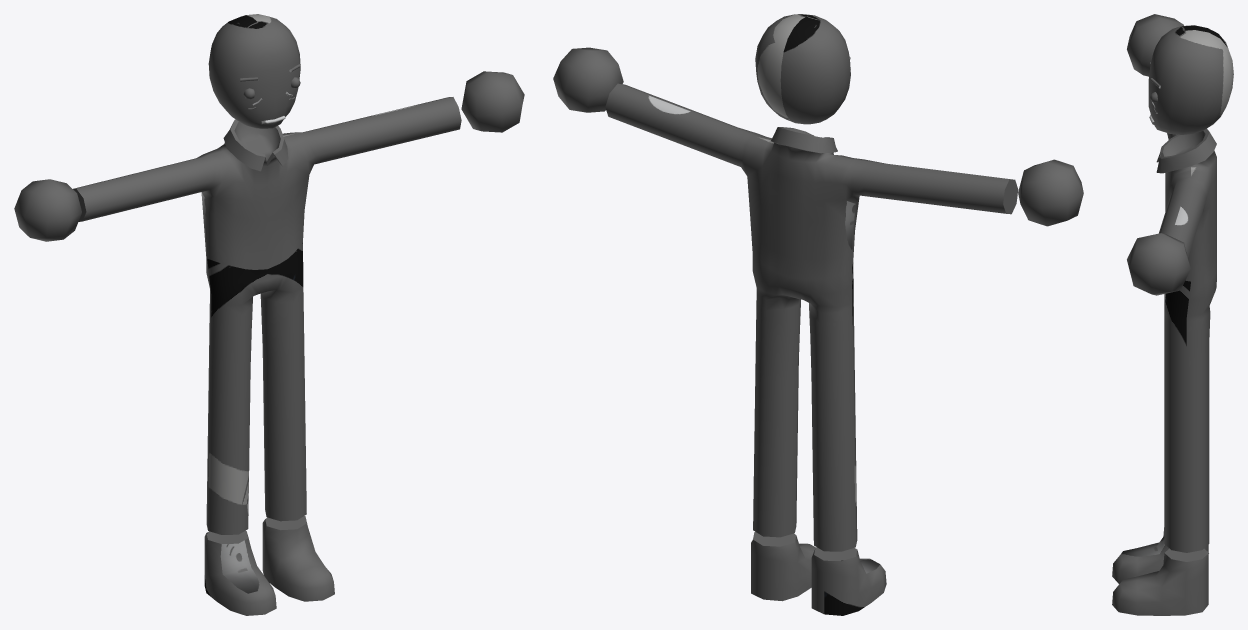
File: player.fbx
The picture shows the model from 3 angles, left to right: view 1: azimuth 30°, elevation 25°; view 2: azimuth 150°, elevation 25°; view 3: azimuth 270°, elevation 25°; orthographic projection. The views are drawn at different scales.
Visible parts, largest first — view 1: body, head, hand_R, hand_L; view 2: body, head, hand_R, hand_L; view 3: body, head, hand_L, hand_R.
Boxes of the visible parts, bbox=[...] form: body: bbox=[73, 97, 461, 615]; head: bbox=[208, 14, 300, 128]; hand_R: bbox=[14, 179, 81, 241]; hand_L: bbox=[461, 71, 524, 132]; body: bbox=[605, 83, 1018, 615]; head: bbox=[755, 14, 850, 124]; hand_R: bbox=[1018, 159, 1083, 226]; hand_L: bbox=[553, 47, 623, 112]; body: bbox=[1112, 128, 1216, 615]; head: bbox=[1148, 25, 1233, 134]; hand_L: bbox=[1127, 233, 1190, 295]; hand_R: bbox=[1127, 14, 1183, 76].
Size of the model in its own units: 170 by 182 by 35.89.
Materials: 1 (1 with a texture image).
